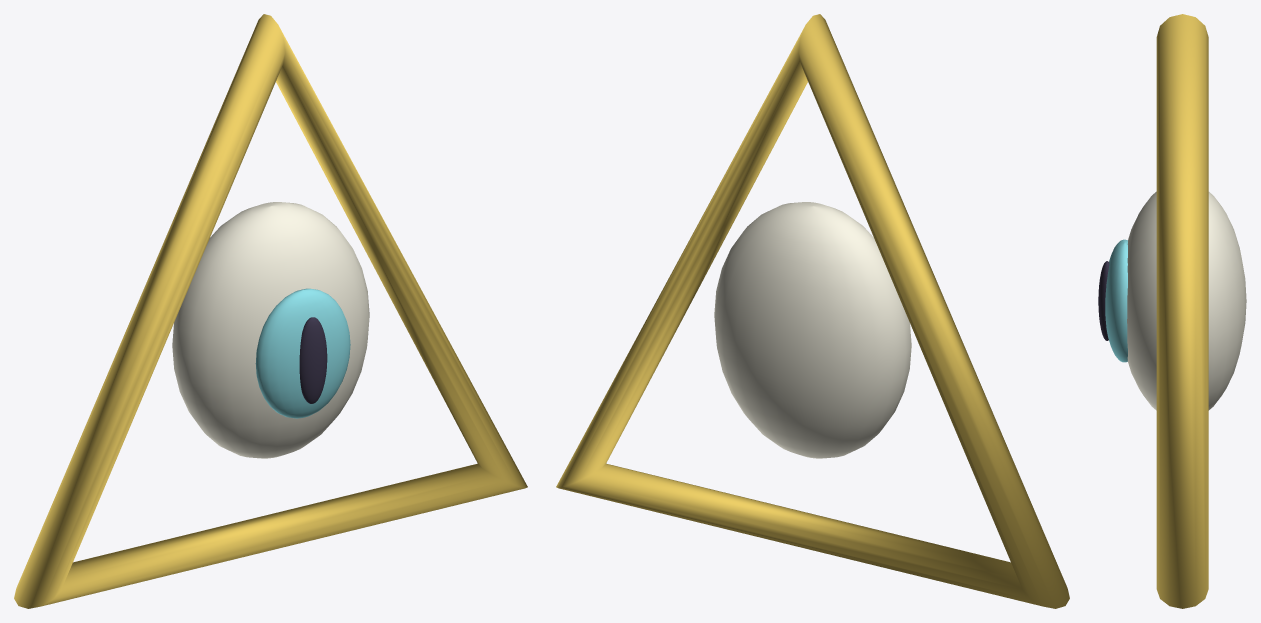
Rendered from real_eyes.glb.
3 views of the same model, side by side, from view 1: azimuth 30°, elevation 25°; view 2: azimuth 150°, elevation 25°; view 3: azimuth 270°, elevation 25° (orthographic). The views are drawn at different scales.
Size of the model in its own units: 23 by 23 by 6.4.
